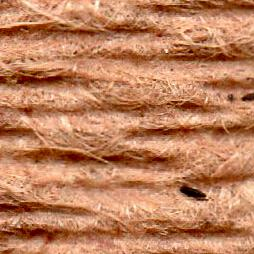egg: (180, 186, 207, 199), (243, 92, 253, 100)
